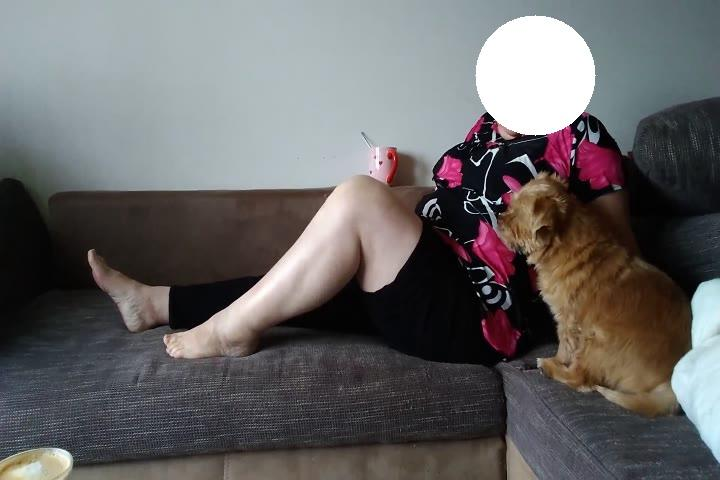lowerbody: (82, 171, 507, 375)
